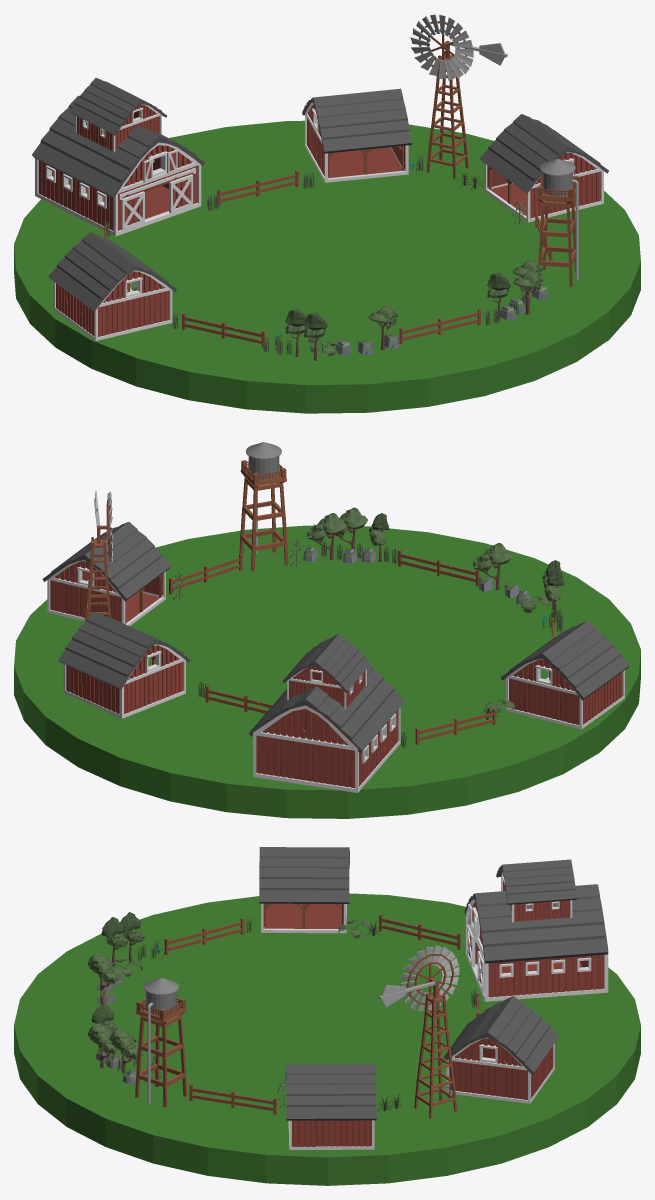
File: escenario.gltf
The picture shows the model from 3 angles, top to bottom: view 1: azimuth 30°, elevation 25°; view 2: azimuth 150°, elevation 25°; view 3: azimuth 270°, elevation 25°; orthographic projection.
Visible parts, largest first — view 1: Cylinder, BigBarn, OpenBarn.002, OpenBarn, OpenBarn.001, WaterTower, Windmill, Windmill_Blades, BigBarn_Door, Fence.002, Fence.003, Fence.001 (+2 smaller); view 2: Cylinder, BigBarn, OpenBarn, OpenBarn.002, OpenBarn.001, WaterTower, Windmill, Fence, CommonTree_2, CommonTree_2.001, Fence.003, Fence.004 (+2 smaller); view 3: Cylinder, BigBarn, OpenBarn, OpenBarn.001, OpenBarn.002, WaterTower, Windmill, Windmill_Blades, Fence.004, Fence.002, Fence, CommonTree_2.001 (+4 smaller).
Part boxes in pixels (<box>): Cylinder: <box>14,120,640,413</box>; BigBarn: <box>32,78,204,236</box>; OpenBarn.002: <box>48,232,176,340</box>; OpenBarn: <box>302,88,412,182</box>; OpenBarn.001: <box>480,114,608,222</box>; WaterTower: <box>536,158,578,286</box>; Windmill: <box>426,40,507,178</box>; Windmill_Blades: <box>410,14,473,80</box>; BigBarn_Door: <box>169,174,193,213</box>; Fence.002: <box>182,313,264,347</box>; Fence.003: <box>399,308,480,344</box>; Fence.001: <box>217,170,298,205</box>; Cylinder: <box>14,525,640,818</box>; BigBarn: <box>248,634,405,792</box>; OpenBarn: <box>58,611,190,718</box>; OpenBarn.002: <box>500,621,629,729</box>; OpenBarn.001: <box>42,522,170,626</box>; WaterTower: <box>239,442,288,570</box>; Windmill: <box>84,491,111,621</box>; Fence: <box>415,708,496,744</box>; CommonTree_2: <box>306,513,346,560</box>; CommonTree_2.001: <box>473,543,512,590</box>; Fence.003: <box>398,550,479,585</box>; Fence.004: <box>169,554,242,594</box>; Cylinder: <box>14,893,640,1185</box>; BigBarn: <box>464,859,608,1001</box>; OpenBarn: <box>441,996,559,1103</box>; OpenBarn.001: <box>285,1063,376,1149</box>; OpenBarn.002: <box>259,847,349,933</box>; WaterTower: <box>135,977,187,1107</box>; Windmill: <box>379,978,457,1118</box>; Windmill_Blades: <box>399,945,459,1011</box>; Fence.004: <box>189,1084,276,1114</box>; Fence.002: <box>164,918,244,954</box>; Fence: <box>379,914,460,949</box>; CommonTree_2.001: <box>88,952,121,992</box>.
Bounding box in the file's own units: 40 × 13.21 × 40.
